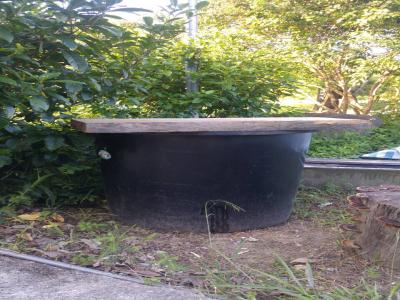bucket: (94, 127, 316, 237)
